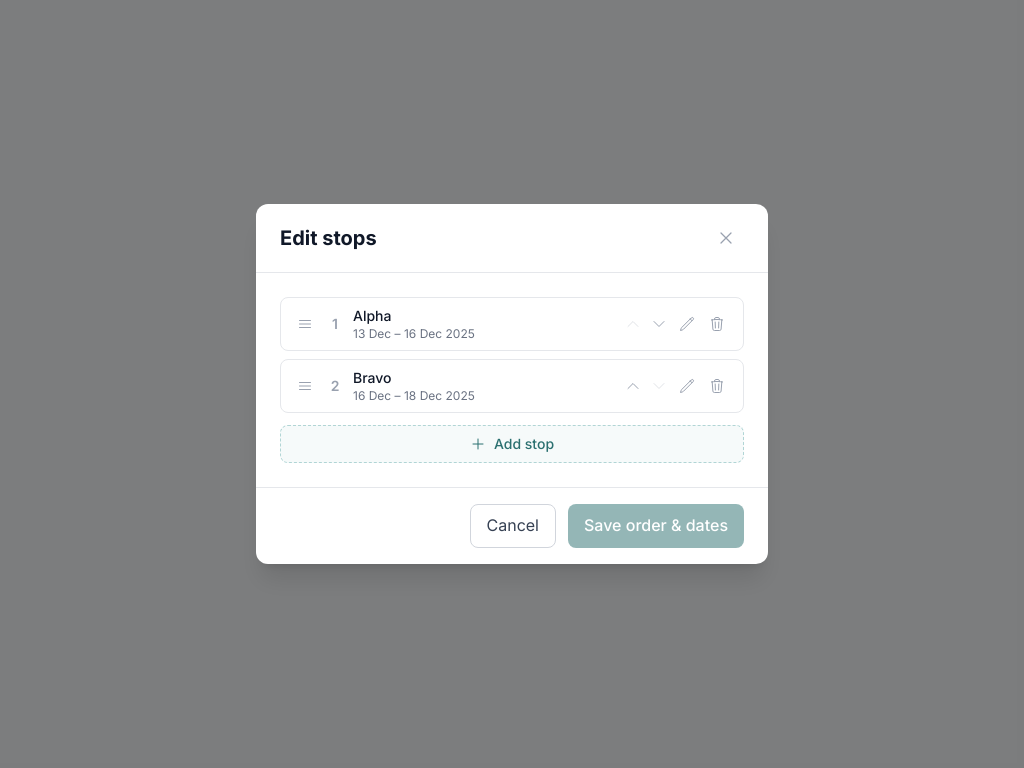
StopsEditor › deletes a stop after confirmation and re-cascades the rest
The width and height of the screenshot is (1024, 768).
Click the button named "Delete Alpha" at (717, 324), box [703, 310, 731, 338]
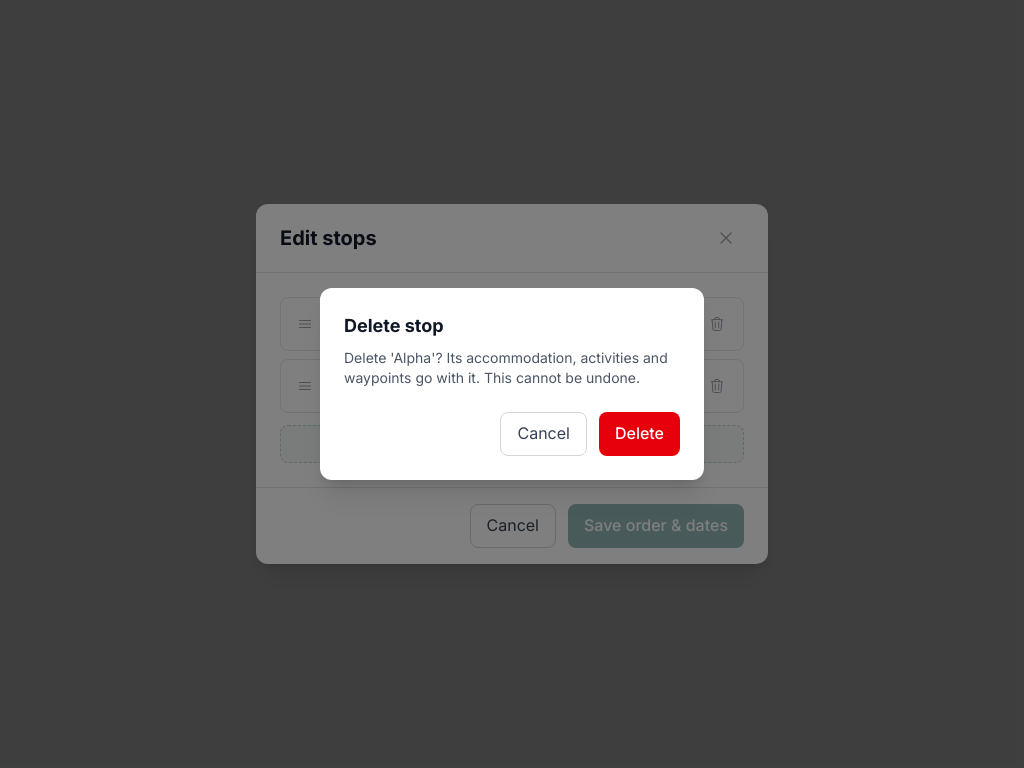
Now the text "Its accommodation, activities and waypoints go with it" is shown, box [344, 349, 668, 386]
Click the button "Delete" at (639, 434), box [599, 412, 680, 456]
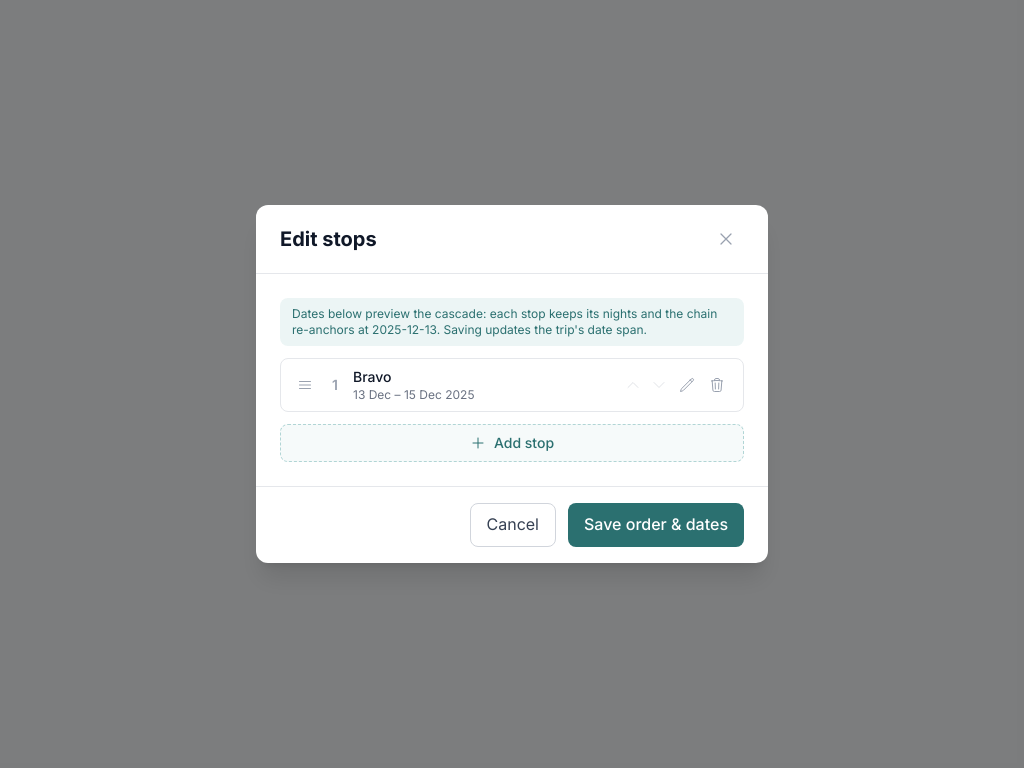
Now the text "13 Dec – 15 Dec 2025" is shown, box [353, 387, 474, 402]
Now the text "Alpha" is gone
